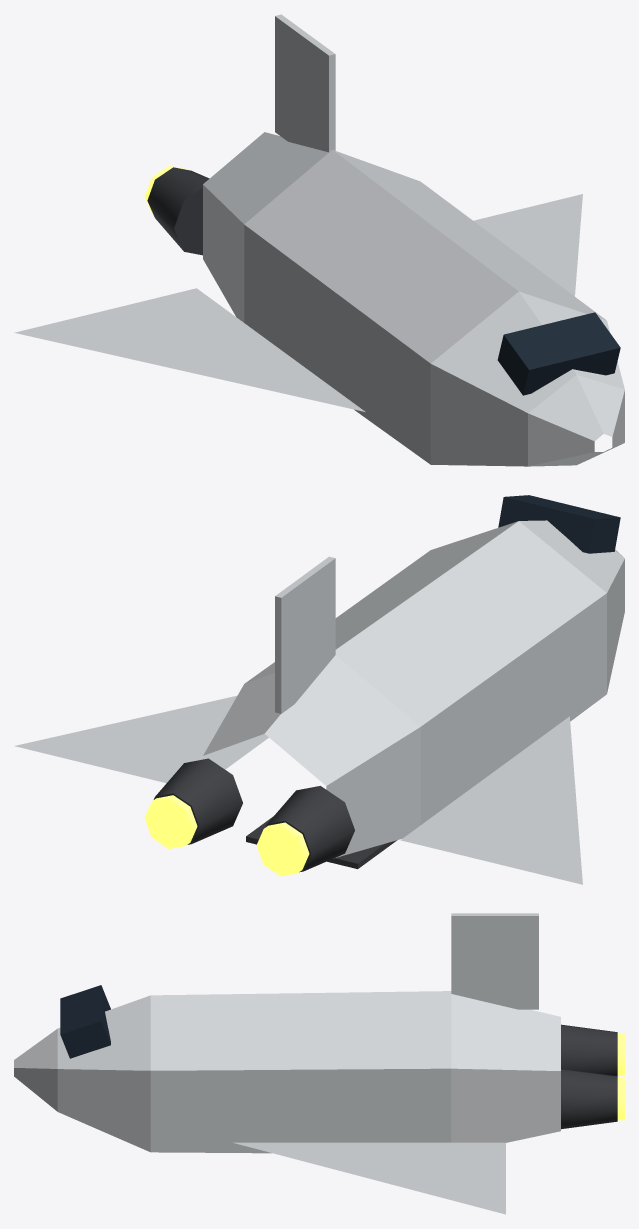
Rendered from space_ship_shuttle_mk1.glb.
3 renders of one model, top to bottom at view 1: azimuth 30°, elevation 25°; view 2: azimuth 150°, elevation 25°; view 3: azimuth 270°, elevation 25°, orthographic. The views are drawn at different scales.
Parts seen in each view (by area): view 1: body, engine_1; view 2: body, engine_0, engine_1, ramp; view 3: body, engine_0, engine_1.
Part boxes in pixels (left/top/right/bottom): body: left=14, top=14, right=624, bottom=466; engine_1: left=144, top=166, right=209, bottom=255; body: left=14, top=495, right=624, bottom=884; engine_0: left=144, top=758, right=242, bottom=848; engine_1: left=256, top=786, right=354, bottom=876; ramp: left=246, top=816, right=397, bottom=869; body: left=14, top=913, right=560, bottom=1214; engine_0: left=561, top=1068, right=624, bottom=1129; engine_1: left=561, top=1024, right=624, bottom=1076.
Size of what is drawn, in the model's own units: 8.72 by 4.04 by 10.06.
